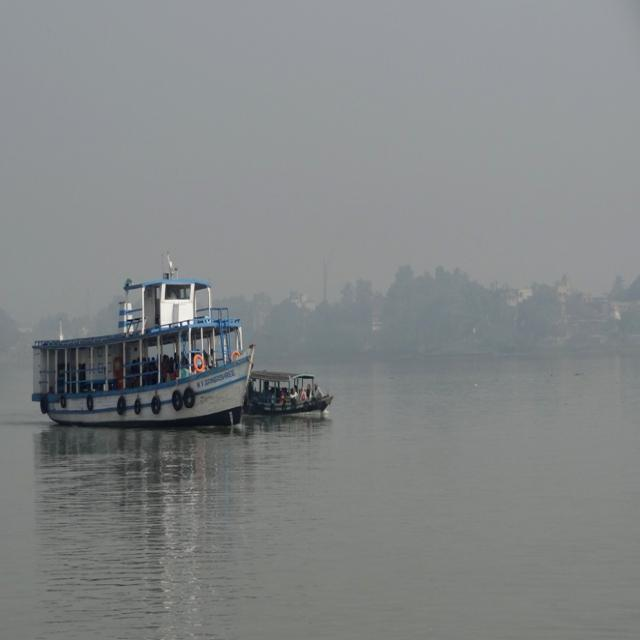passenger ship: (15, 278, 242, 428), (254, 358, 327, 432)
